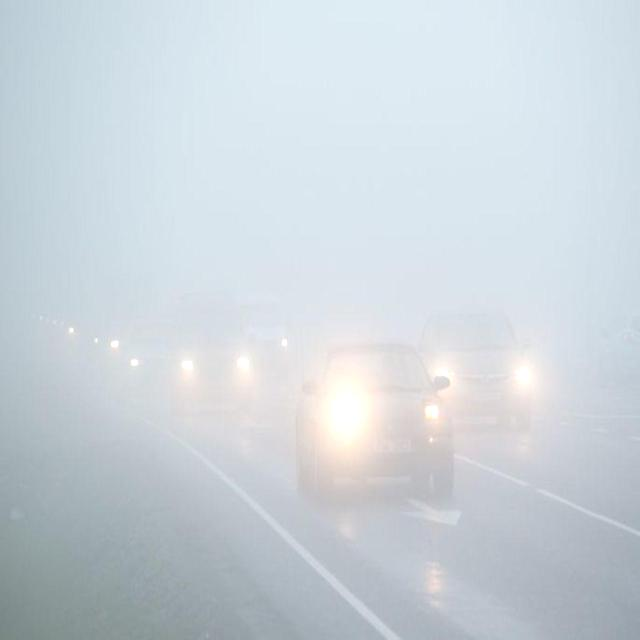Car: (290, 346, 456, 495), (419, 311, 538, 424), (168, 295, 260, 412)
